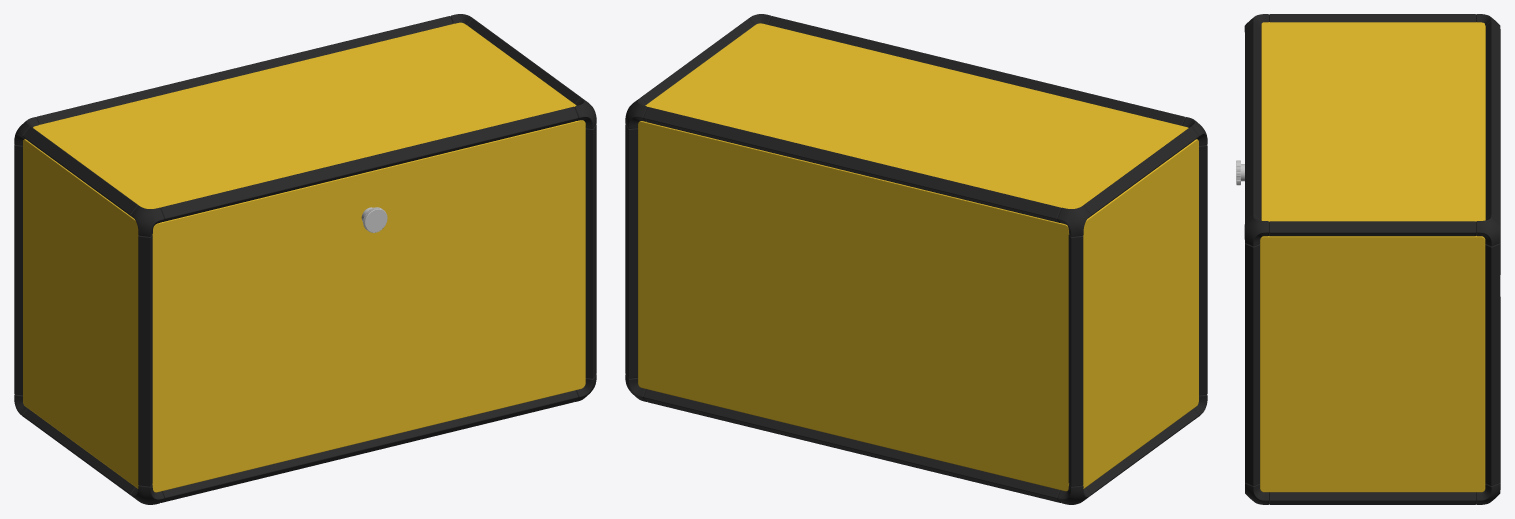
The picture shows the model from 3 angles, left to right: view 1: azimuth 30°, elevation 25°; view 2: azimuth 150°, elevation 25°; view 3: azimuth 270°, elevation 25°; orthographic projection. The views are drawn at different scales.
Visible parts, largest first — view 1: 729x329x375; view 2: 729x329x375; view 3: 729x329x375.
Boxes of the visible parts, box(x1,y1,x2,y2) form: 729x329x375: box(14, 14, 596, 504); 729x329x375: box(625, 14, 1207, 504); 729x329x375: box(1236, 14, 1500, 504).
Size of the model in its own units: 0.8067 by 0.4976 by 0.4196.
